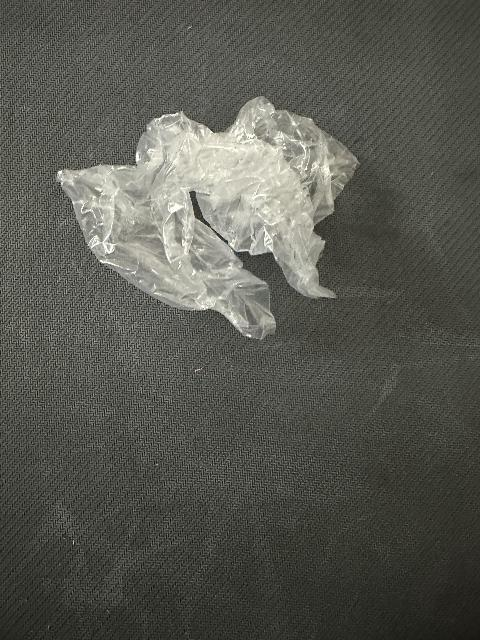Plastik: (59, 97, 360, 338)
